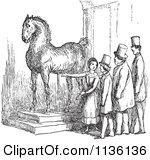horse: (19, 13, 90, 111)
person: (110, 43, 135, 135), (127, 35, 148, 136), (98, 57, 116, 139), (83, 57, 102, 132)
